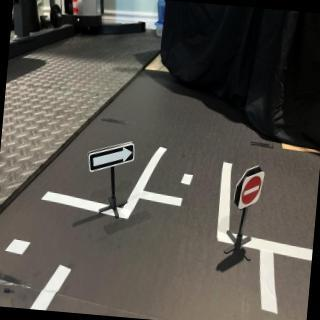sign_noentry: (238, 168, 266, 214)
sign_oneway_right: (87, 137, 138, 180)
